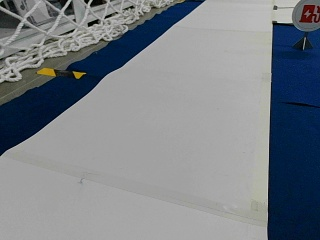battery: (291, 0, 320, 32)
